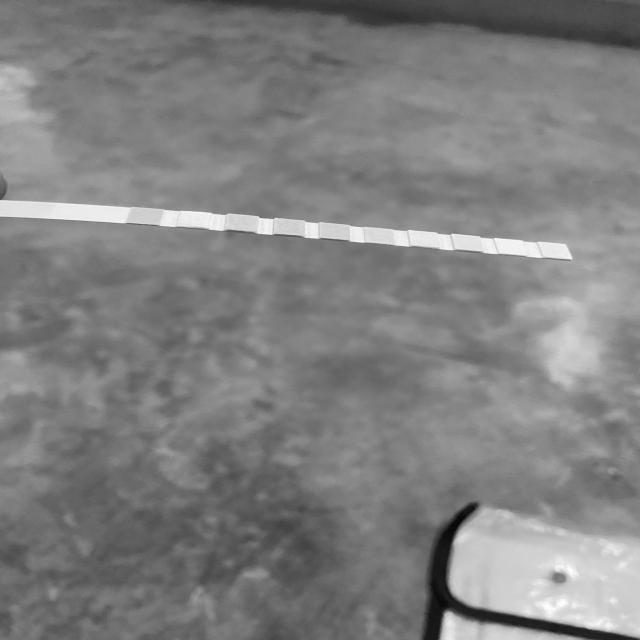Bilirubin: (180, 212, 210, 226)
Blood: (320, 225, 350, 238)
Glucose: (130, 210, 161, 223)
Ketone: (227, 216, 258, 230)
Leukocytes: (543, 244, 566, 257)
Nitrite: (499, 241, 522, 253)
Protein: (411, 232, 437, 245)
SpGravity: (274, 221, 305, 234)
Urobilinogen: (456, 236, 480, 249)
background: (0, 0, 640, 640)
pH: (366, 229, 394, 243)
strip: (1, 200, 572, 260)
